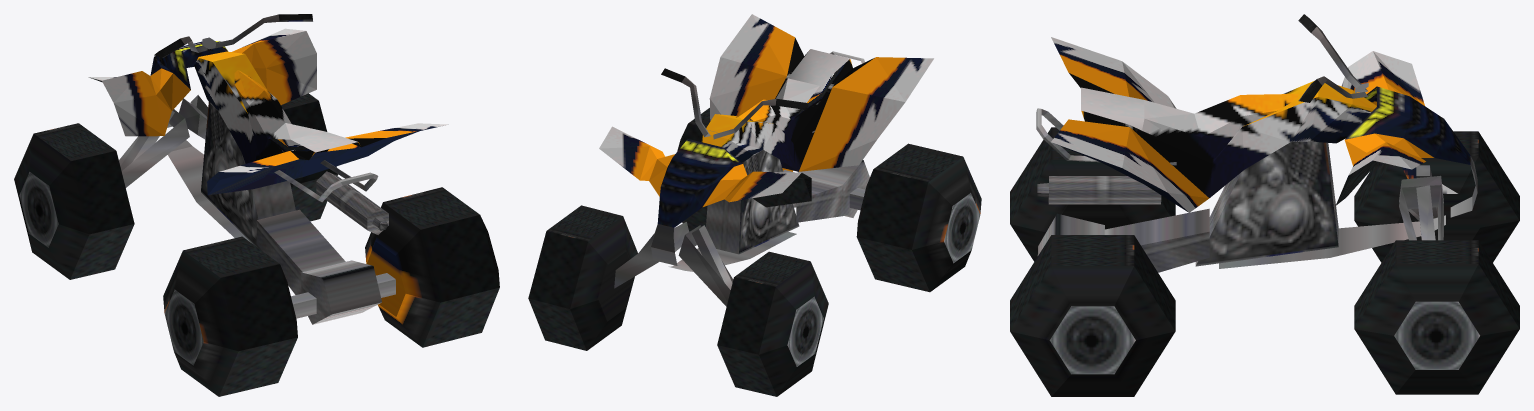
The model's file is ATV.ICO.obj.
3 views of the same model, side by side, from view 1: azimuth 30°, elevation 25°; view 2: azimuth 150°, elevation 25°; view 3: azimuth 270°, elevation 25° (orthographic). The views are drawn at different scales.
Size of the model in its own units: 2.53 by 2.04 by 3.44.
1 material, 1 textured.
